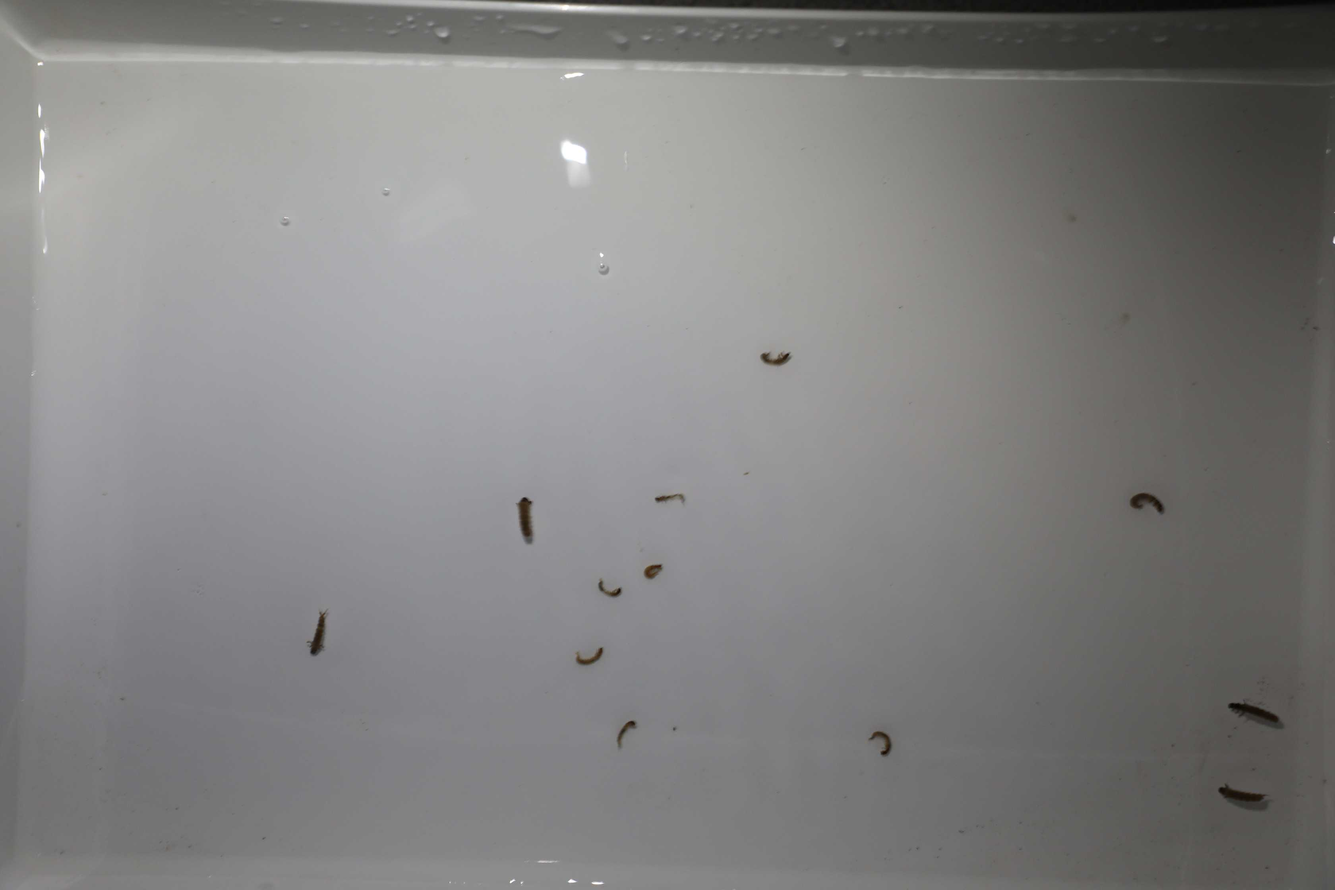Cadisfly: (1225, 692, 1288, 735), (1215, 778, 1271, 812), (510, 494, 543, 547), (1126, 484, 1164, 523), (304, 606, 330, 660), (573, 641, 606, 672), (756, 343, 793, 370), (870, 723, 892, 761), (614, 718, 639, 751), (652, 490, 689, 512), (639, 563, 665, 585), (598, 581, 624, 598)
